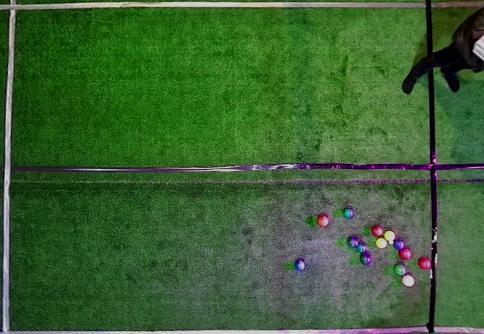blue: (294, 259, 305, 270), (393, 239, 405, 249)
green: (393, 263, 407, 277), (359, 253, 372, 265), (347, 237, 359, 248), (343, 208, 354, 219), (356, 243, 366, 253)
red: (398, 248, 412, 260), (402, 275, 415, 287), (317, 215, 329, 227), (418, 258, 431, 269), (372, 226, 383, 236)
vline: (428, 71, 483, 333), (0, 0, 19, 333), (426, 0, 483, 57)
white: (389, 241, 393, 244)
yellow: (384, 230, 395, 241), (376, 238, 387, 248)
